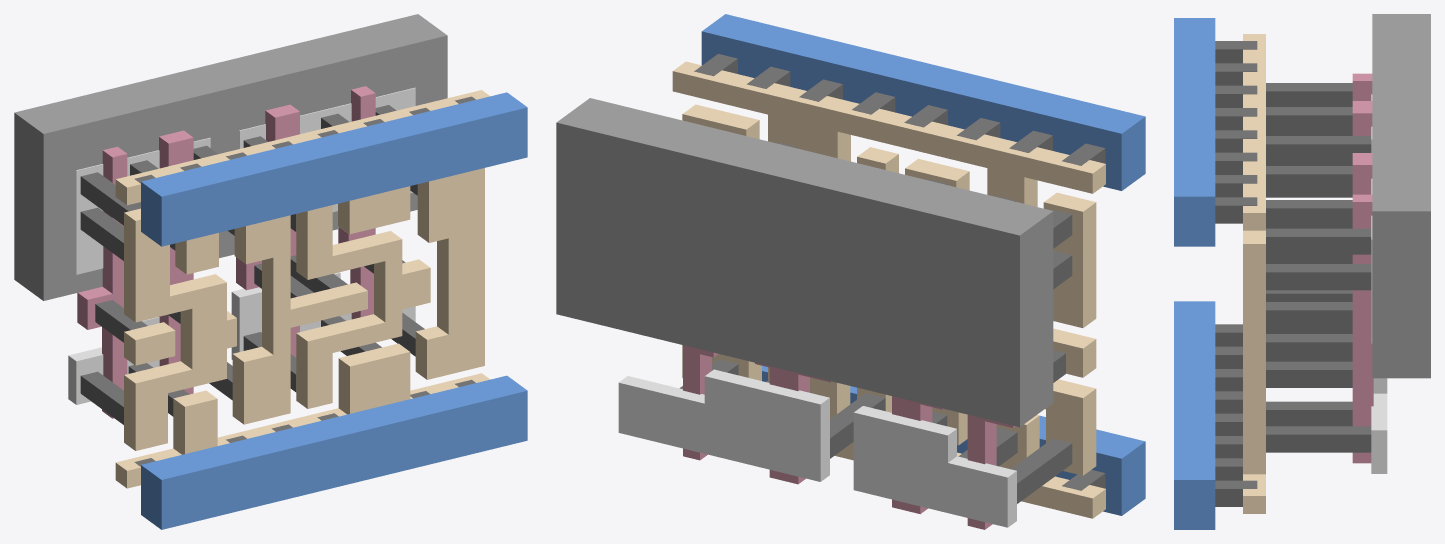
File: sky130_fd_sc_hd__clkdlybuf4s25_1.gds.gltf
The picture shows the model from 3 angles, left to right: view 1: azimuth 30°, elevation 25°; view 2: azimuth 150°, elevation 25°; view 3: azimuth 270°, elevation 25°; orthographic projection. The views are drawn at different scales.
Parts seen in each view (by area): view 1: sky130_fd_sc_hd__clkdlybuf4s25_1_li1, sky130_fd_sc_hd__clkdlybuf4s25_1_met1, sky130_fd_sc_hd__clkdlybuf4s25_1_nwell, sky130_fd_sc_hd__clkdlybuf4s25_1_licon, sky130_fd_sc_hd__clkdlybuf4s25_1_poly, sky130_fd_sc_hd__clkdlybuf4s25_1_diff, sky130_fd_sc_hd__clkdlybuf4s25_1_mcon; view 2: sky130_fd_sc_hd__clkdlybuf4s25_1_nwell, sky130_fd_sc_hd__clkdlybuf4s25_1_li1, sky130_fd_sc_hd__clkdlybuf4s25_1_diff, sky130_fd_sc_hd__clkdlybuf4s25_1_met1, sky130_fd_sc_hd__clkdlybuf4s25_1_licon, sky130_fd_sc_hd__clkdlybuf4s25_1_mcon, sky130_fd_sc_hd__clkdlybuf4s25_1_poly; view 3: sky130_fd_sc_hd__clkdlybuf4s25_1_licon, sky130_fd_sc_hd__clkdlybuf4s25_1_nwell, sky130_fd_sc_hd__clkdlybuf4s25_1_met1, sky130_fd_sc_hd__clkdlybuf4s25_1_mcon, sky130_fd_sc_hd__clkdlybuf4s25_1_li1, sky130_fd_sc_hd__clkdlybuf4s25_1_poly, sky130_fd_sc_hd__clkdlybuf4s25_1_diff.
Boxes of the visible parts, <box> form: sky130_fd_sc_hd__clkdlybuf4s25_1_li1: <box>115,90,489,488</box>; sky130_fd_sc_hd__clkdlybuf4s25_1_met1: <box>141,92,527,529</box>; sky130_fd_sc_hd__clkdlybuf4s25_1_nwell: <box>14,14,447,300</box>; sky130_fd_sc_hd__clkdlybuf4s25_1_licon: <box>80,105,424,424</box>; sky130_fd_sc_hd__clkdlybuf4s25_1_poly: <box>77,86,375,418</box>; sky130_fd_sc_hd__clkdlybuf4s25_1_diff: <box>68,87,415,404</box>; sky130_fd_sc_hd__clkdlybuf4s25_1_mcon: <box>134,96,475,466</box>; sky130_fd_sc_hd__clkdlybuf4s25_1_nwell: <box>556,98,1053,427</box>; sky130_fd_sc_hd__clkdlybuf4s25_1_li1: <box>672,61,1105,518</box>; sky130_fd_sc_hd__clkdlybuf4s25_1_diff: <box>618,369,1016,527</box>; sky130_fd_sc_hd__clkdlybuf4s25_1_met1: <box>701,14,1145,515</box>; sky130_fd_sc_hd__clkdlybuf4s25_1_licon: <box>679,142,1072,503</box>; sky130_fd_sc_hd__clkdlybuf4s25_1_mcon: <box>694,54,1105,490</box>; sky130_fd_sc_hd__clkdlybuf4s25_1_poly: <box>683,345,1015,529</box>; sky130_fd_sc_hd__clkdlybuf4s25_1_licon: <box>1266,83,1371,452</box>; sky130_fd_sc_hd__clkdlybuf4s25_1_nwell: <box>1372,14,1430,378</box>; sky130_fd_sc_hd__clkdlybuf4s25_1_met1: <box>1174,18,1215,529</box>; sky130_fd_sc_hd__clkdlybuf4s25_1_mcon: <box>1215,41,1257,506</box>; sky130_fd_sc_hd__clkdlybuf4s25_1_li1: <box>1243,34,1265,513</box>; sky130_fd_sc_hd__clkdlybuf4s25_1_poly: <box>1352,73,1373,463</box>; sky130_fd_sc_hd__clkdlybuf4s25_1_diff: <box>1371,94,1387,473</box>.
Bounding box in the file's own units: 4.06 × 3.2 × 2.24.
